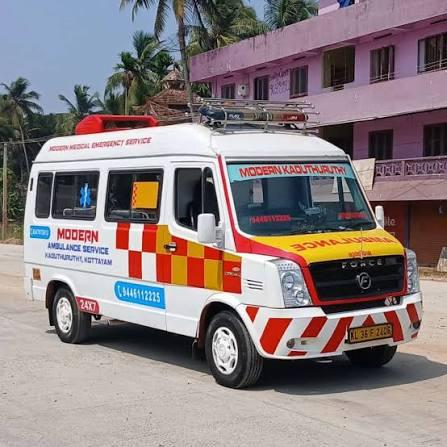ambulance: (25, 98, 419, 384)
